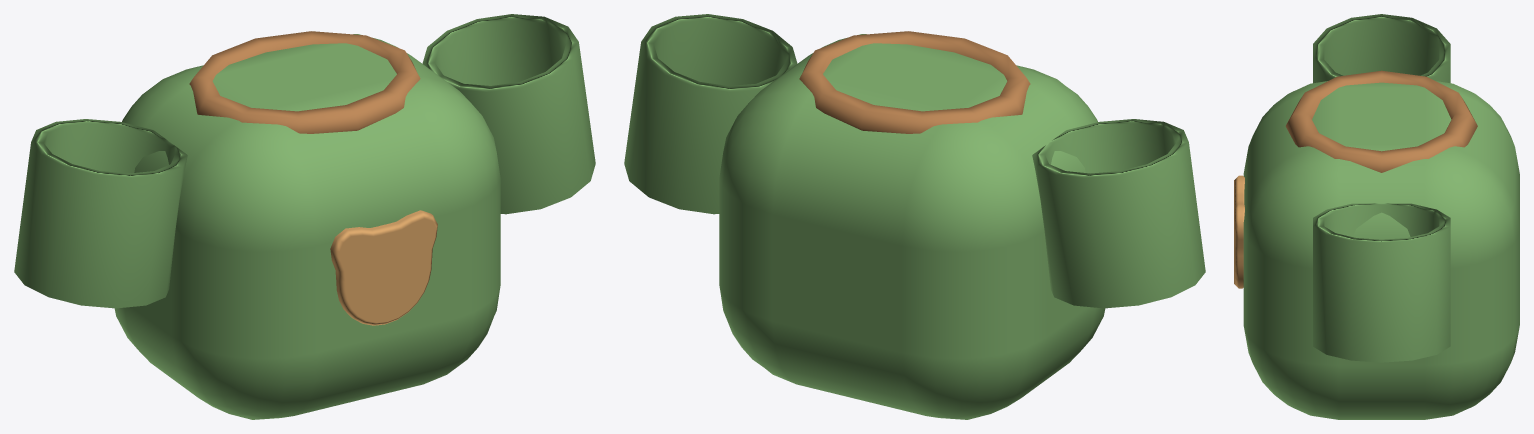
Rendered from bear_tee.glb.
3 views of the same model, side by side, from view 1: azimuth 30°, elevation 25°; view 2: azimuth 150°, elevation 25°; view 3: azimuth 270°, elevation 25° (orthographic). The views are drawn at different scales.
Visible parts, largest first — view 1: bear_tee_Body, bear_tee_ArmL, bear_tee_ArmR; view 2: bear_tee_Body, bear_tee_ArmL, bear_tee_ArmR; view 3: bear_tee_Body, bear_tee_ArmR, bear_tee_ArmL.
Part boxes in pixels (x1,y1,x2,y2): bear_tee_Body: (114, 31, 500, 419); bear_tee_ArmL: (14, 119, 187, 308); bear_tee_ArmR: (422, 14, 595, 214); bear_tee_Body: (719, 31, 1105, 419); bear_tee_ArmL: (1032, 119, 1205, 308); bear_tee_ArmR: (624, 14, 797, 214); bear_tee_Body: (1234, 70, 1519, 419); bear_tee_ArmR: (1313, 203, 1450, 362); bear_tee_ArmL: (1313, 14, 1450, 83).
Size of the model in its own units: 0.6053 by 0.3119 by 0.3.
